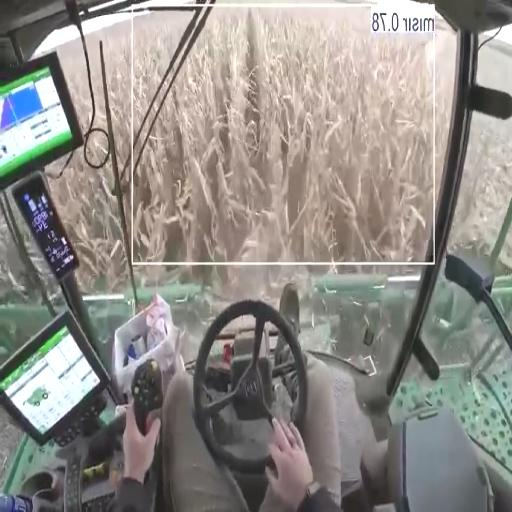misir: (135, 9, 453, 260)
